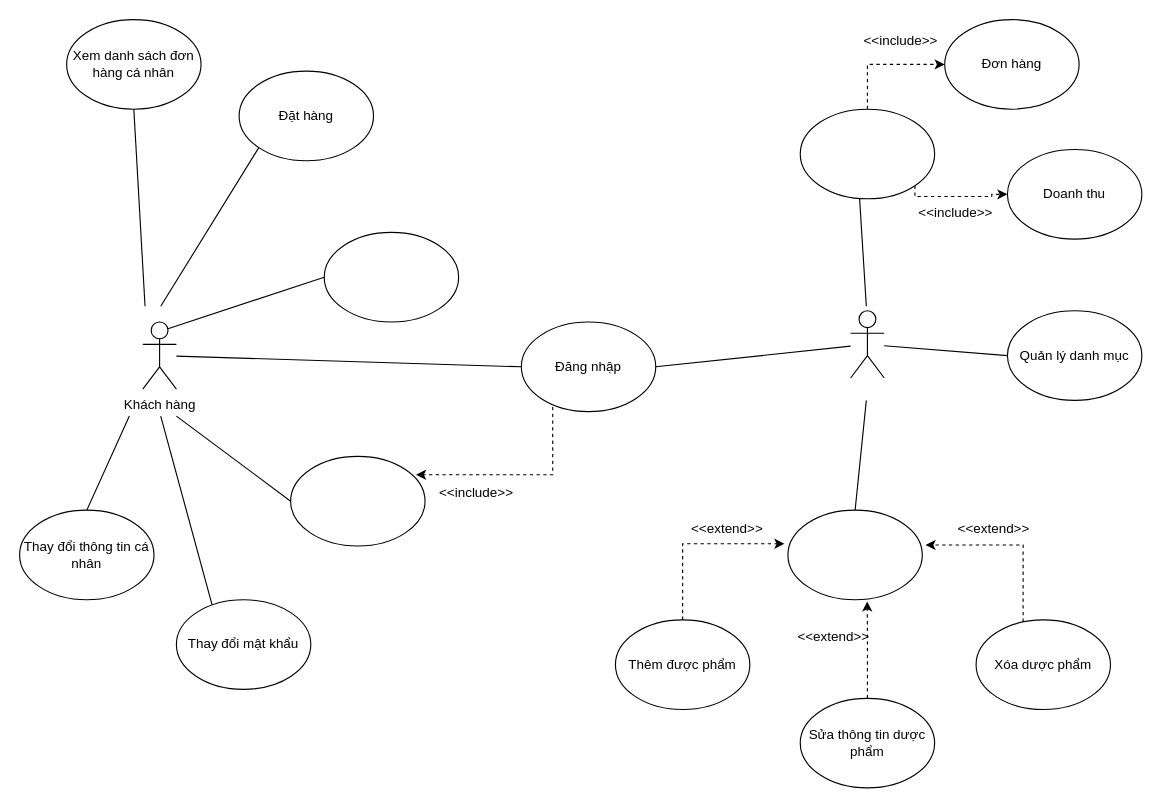
The diagram is 1161 pixels wide and 808 high, and some of its shapes have lost their labels. The centre of each missing label's shape, as x and y in pixels:
"Quản lý dược phẩm" goes at (x=854, y=554).
"Quản trị viên" goes at (x=867, y=344).
"Thông kê" goes at (x=867, y=153).
"Tìm kiếm và xem thông tin được phẩm" goes at (x=391, y=276).
"Đăng ký tài khoản" goes at (x=357, y=500).
